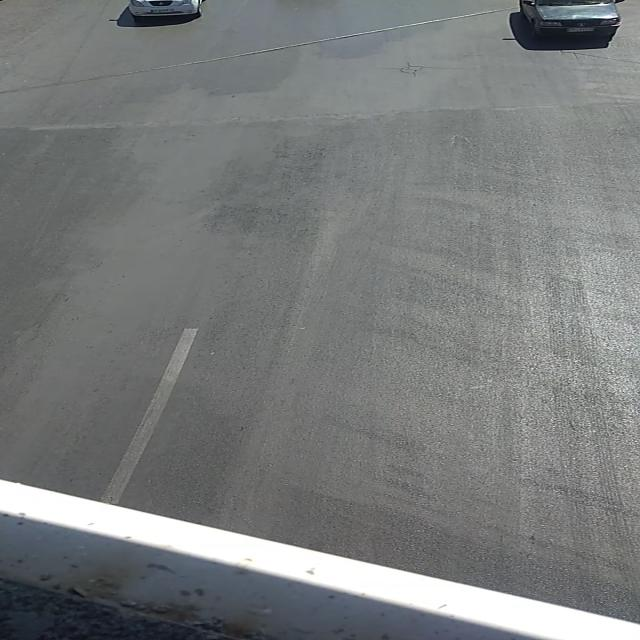car: (513, 1, 622, 40), (126, 0, 206, 16)
